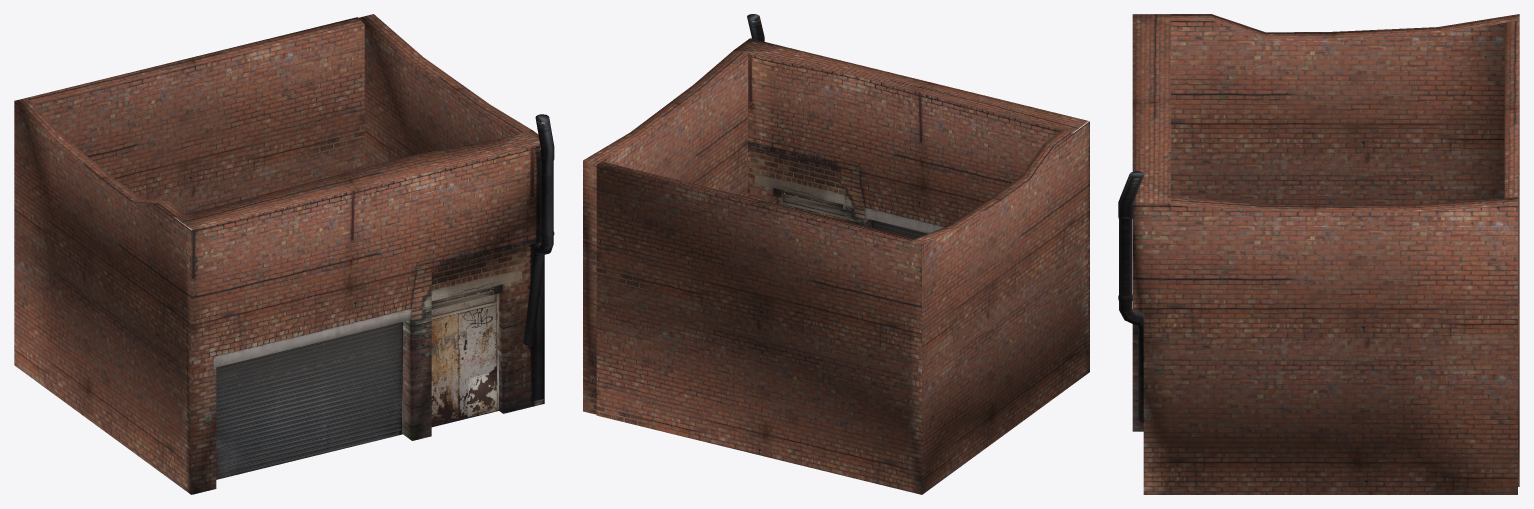
The model's file is war_torn13.obj.
3 views of the same model, side by side, from view 1: azimuth 30°, elevation 25°; view 2: azimuth 150°, elevation 25°; view 3: azimuth 270°, elevation 25° (orthographic). The views are drawn at different scales.
Parts seen in each view (by area): view 1: worn_torn13; view 2: worn_torn13; view 3: worn_torn13.
Boxes of the visible parts, x1,y1,x2,y2 form: worn_torn13: (14, 14, 554, 494); worn_torn13: (583, 14, 1089, 494); worn_torn13: (1118, 14, 1519, 494).
Bounding box in the file's own units: 311 × 240 × 276.
1 material, 1 textured.
